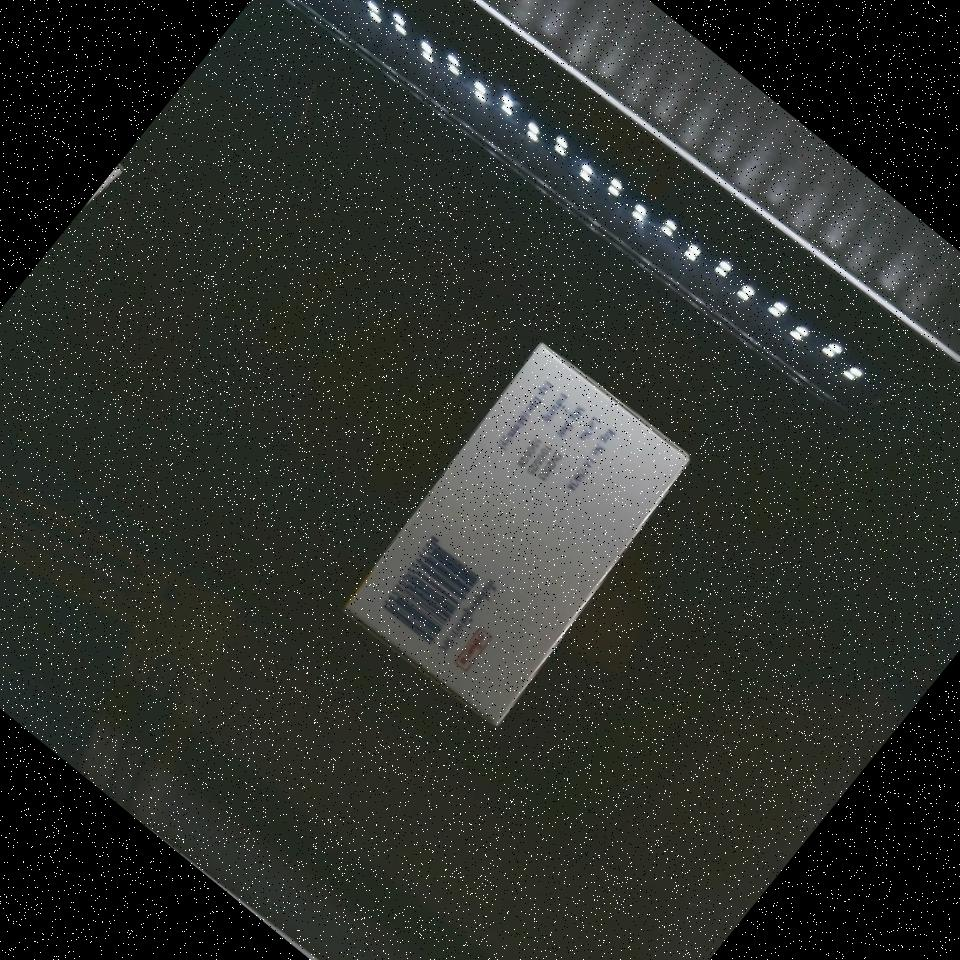sefloc: (340, 341, 694, 726)
